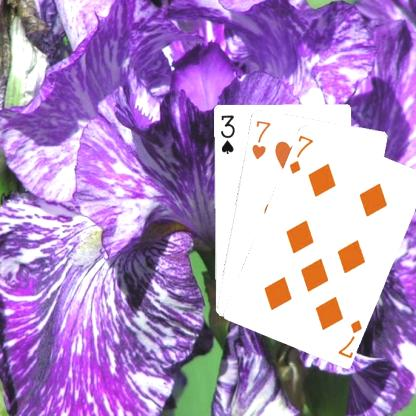3S: (217, 112, 235, 155)
7D: (286, 133, 315, 175), (334, 316, 362, 359)
7H: (249, 117, 272, 161)
